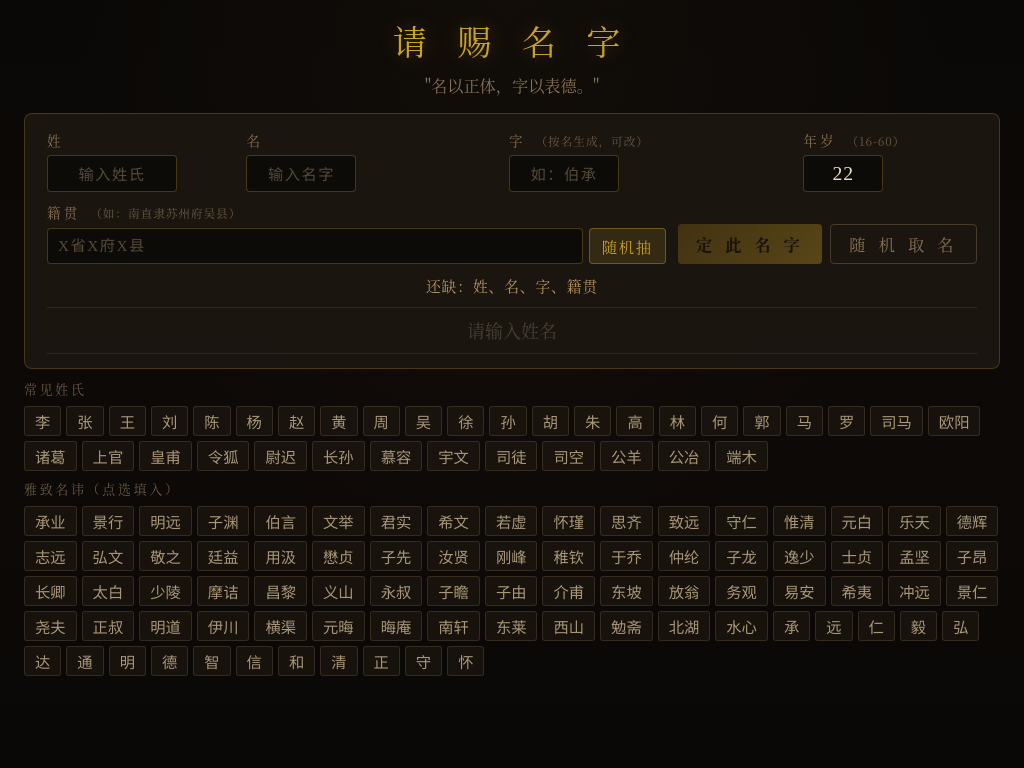
Test: 起名屏 · 随机取名 › 主按钮按不动时，屏幕上写清楚还缺哪一格
Check: the message shows "籍贯", box [473,275,598,296]
Check: the message shows "姓", box [473,275,598,296]
In the field labelled "姓": (112, 174) [47,155,177,192], type "陈"
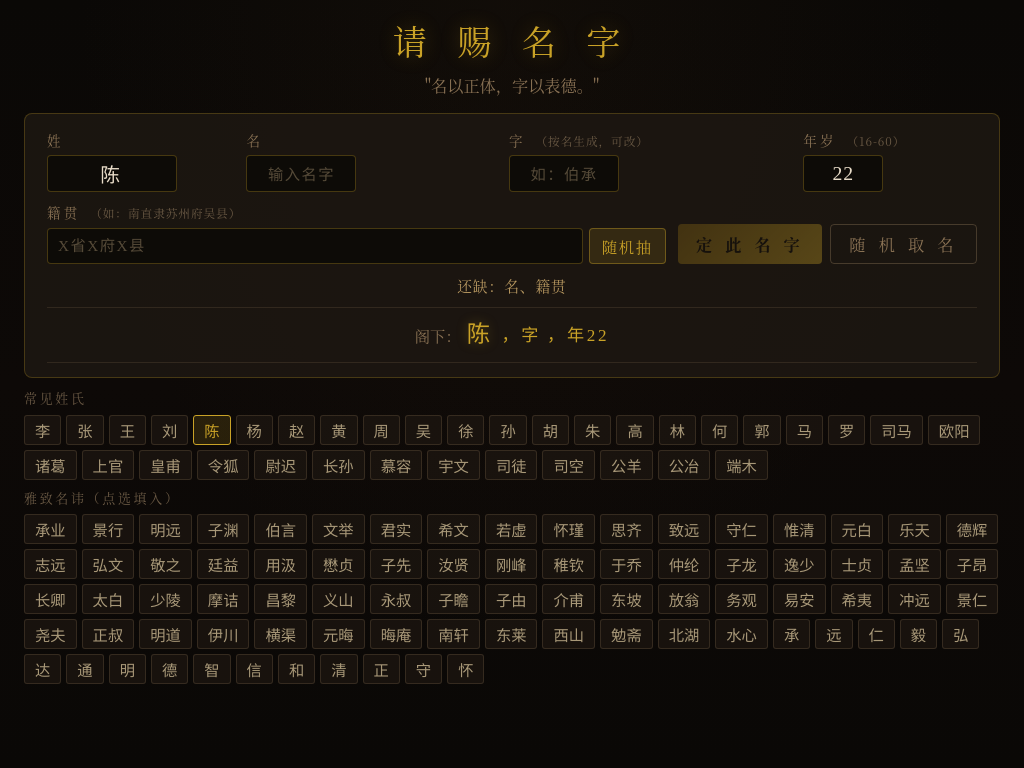
In the field labelled "名": (302, 174) [246,155,356,192], type "承业"
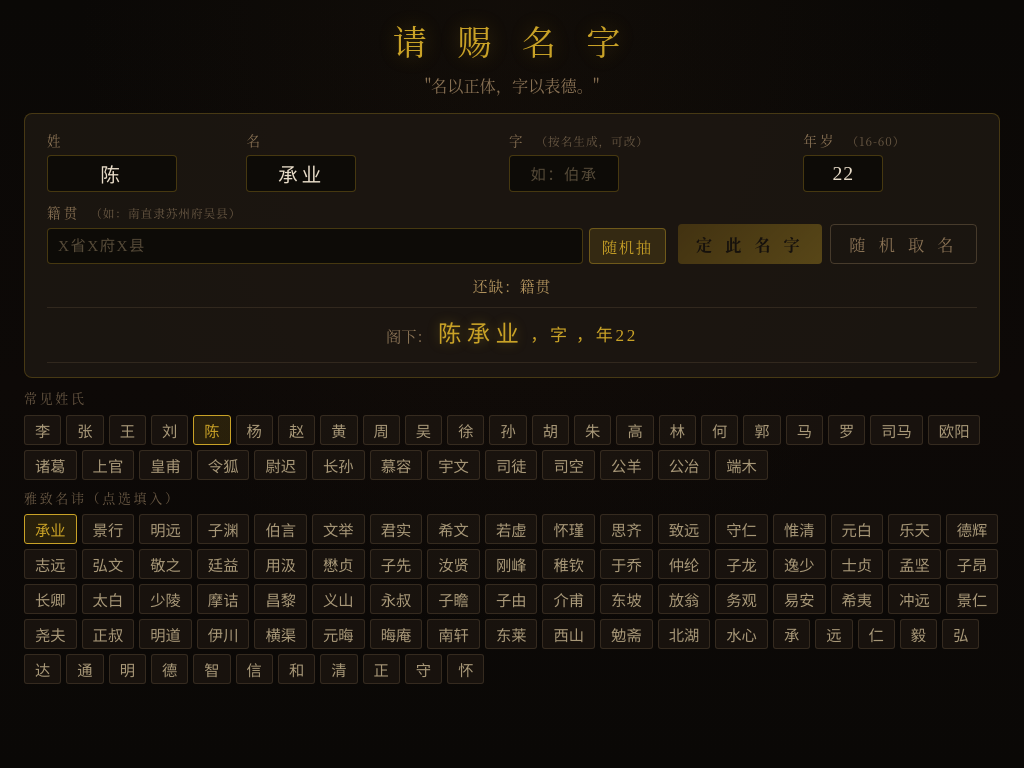
In the field labelled "字 （按名生成，可改）": (564, 174) [509,155,619,192], type "伯承"
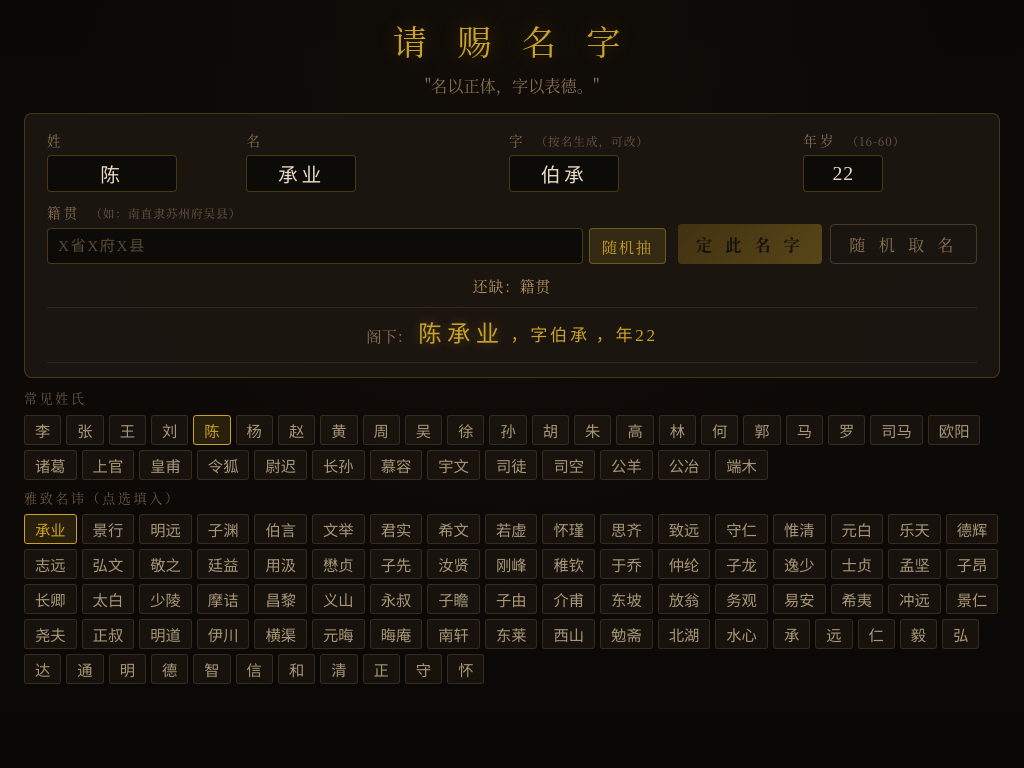
Check: the message reads "还缺：籍贯", box [473,275,551,296]
Click the button "随机抽": (627, 246) [589,228,666,264]
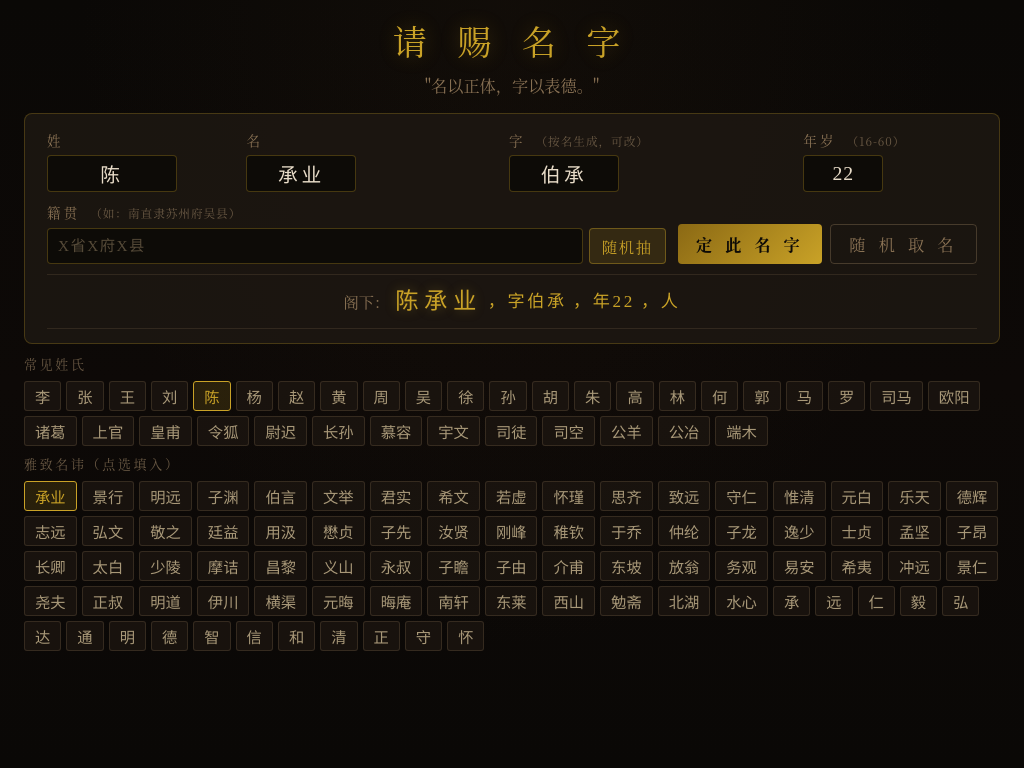
Check: the message "还缺：籍贯" is gone
